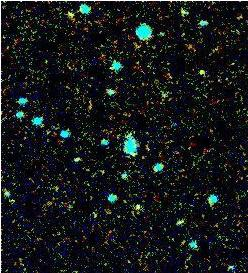star: (185, 58, 215, 88)
